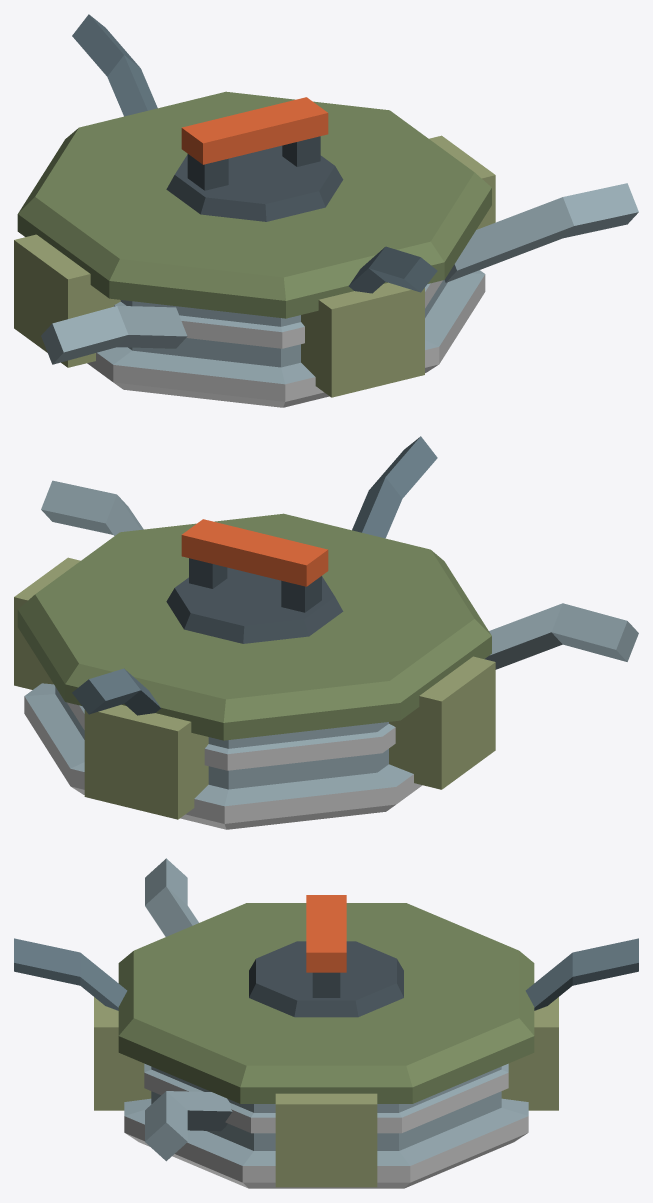
Rendered from blade_wire_core.obj.
3 renders of one model, top to bottom at view 1: azimuth 30°, elevation 25°; view 2: azimuth 150°, elevation 25°; view 3: azimuth 270°, elevation 25°, orthographic. The views are drawn at different scales.
Visible parts, largest first — view 1: spool, guide_s, east_leader, guide_w, release_tab, west_leader, north_leader, south_leader, guide_e, lever_pivot, lever_catch; view 2: spool, guide_n, guide_w, west_leader, release_tab, east_leader, south_leader, north_leader, guide_e, lever_pivot, lever_catch; view 3: spool, guide_e, east_leader, guide_n, guide_s, north_leader, south_leader, release_tab, west_leader, lever_catch.
Boxes of the visible parts, <box> form: spool: <box>17,91,491,407</box>; guide_s: <box>301,282,424,397</box>; east_leader: <box>444,183,638,282</box>; guide_w: <box>14,234,120,367</box>; release_tab: <box>181,97,328,164</box>; west_leader: <box>41,305,187,364</box>; north_leader: <box>72,14,157,116</box>; south_leader: <box>348,246,437,293</box>; guide_e: <box>429,135,495,229</box>; lever_pivot: <box>187,154,228,190</box>; lever_catch: <box>282,136,320,166</box>; spool: <box>17,513,491,829</box>; guide_n: <box>84,704,208,819</box>; guide_w: <box>389,656,495,789</box>; west_leader: <box>484,603,638,669</box>; release_tab: <box>181,519,328,586</box>; east_leader: <box>41,480,143,535</box>; south_leader: <box>352,436,437,538</box>; north_leader: <box>72,668,160,715</box>; guide_e: <box>14,557,80,689</box>; lever_pivot: <box>281,576,321,612</box>; lever_catch: <box>189,558,227,588</box>; spool: <box>118,903,534,1188</box>; guide_e: <box>275,1093,377,1187</box>; east_leader: <box>145,1091,232,1161</box>; guide_n: <box>501,997,558,1110</box>; guide_s: <box>94,997,151,1110</box>; north_leader: <box>525,938,638,1010</box>; south_leader: <box>14,938,127,1010</box>; release_tab: <box>306,895,346,972</box>; west_leader: <box>145,858,198,936</box>; lever_catch: <box>312,972,340,997</box>.
Size of the model in its own units: 1 by 0.3275 by 1.
